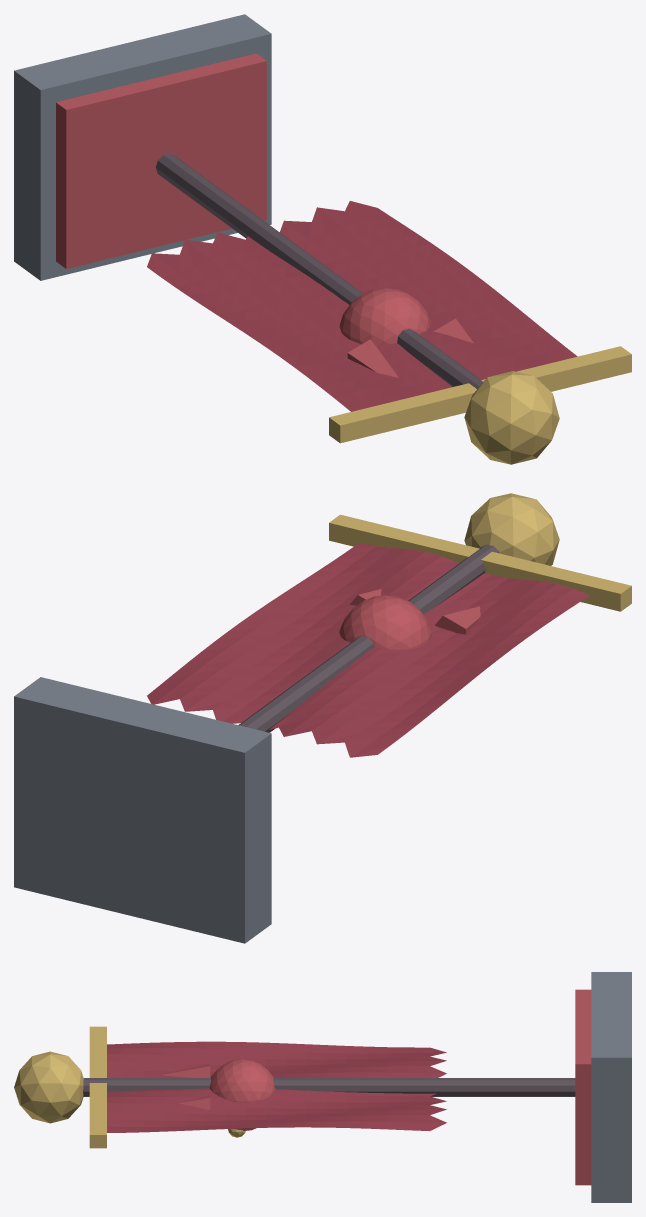
File: 03_Beast_Banner.glb
The picture shows the model from 3 angles, top to bottom: view 1: azimuth 30°, elevation 25°; view 2: azimuth 150°, elevation 25°; view 3: azimuth 270°, elevation 25°; orthographic projection. The views are drawn at different scales.
Parts seen in each view (by area): view 1: 03_Beast_Banner_005, 03_Beast_Banner_001, 03_Beast_Banner_000, 03_Beast_Banner_002, 03_Beast_Banner_004, 03_Beast_Banner_003, 03_Beast_Banner_006, 03_Beast_Banner_007; view 2: 03_Beast_Banner_000, 03_Beast_Banner_005, 03_Beast_Banner_004, 03_Beast_Banner_002, 03_Beast_Banner_003, 03_Beast_Banner_006, 03_Beast_Banner_007; view 3: 03_Beast_Banner_005, 03_Beast_Banner_000, 03_Beast_Banner_002, 03_Beast_Banner_003, 03_Beast_Banner_001, 03_Beast_Banner_006, 03_Beast_Banner_004, 03_Beast_Banner_007.
Part boxes in pixels (x1,y1,x2,y2): 03_Beast_Banner_005: [147, 201, 577, 411]; 03_Beast_Banner_001: [56, 53, 266, 268]; 03_Beast_Banner_000: [14, 14, 271, 280]; 03_Beast_Banner_002: [156, 153, 482, 388]; 03_Beast_Banner_004: [329, 346, 631, 443]; 03_Beast_Banner_003: [464, 371, 559, 464]; 03_Beast_Banner_006: [339, 288, 431, 345]; 03_Beast_Banner_007: [347, 339, 398, 377]; 03_Beast_Banner_000: [14, 677, 271, 943]; 03_Beast_Banner_005: [147, 543, 589, 757]; 03_Beast_Banner_004: [329, 514, 631, 611]; 03_Beast_Banner_002: [238, 544, 499, 732]; 03_Beast_Banner_003: [464, 493, 559, 565]; 03_Beast_Banner_006: [339, 595, 431, 649]; 03_Beast_Banner_007: [435, 606, 480, 634]; 03_Beast_Banner_005: [107, 1041, 446, 1132]; 03_Beast_Banner_000: [591, 972, 631, 1202]; 03_Beast_Banner_002: [83, 1078, 575, 1096]; 03_Beast_Banner_003: [14, 1051, 83, 1123]; 03_Beast_Banner_001: [575, 989, 591, 1185]; 03_Beast_Banner_006: [209, 1059, 275, 1130]; 03_Beast_Banner_004: [89, 1026, 106, 1148]; 03_Beast_Banner_007: [161, 1063, 210, 1077].
Size of the model in its own units: 2.4 by 1.5 by 5.79.
